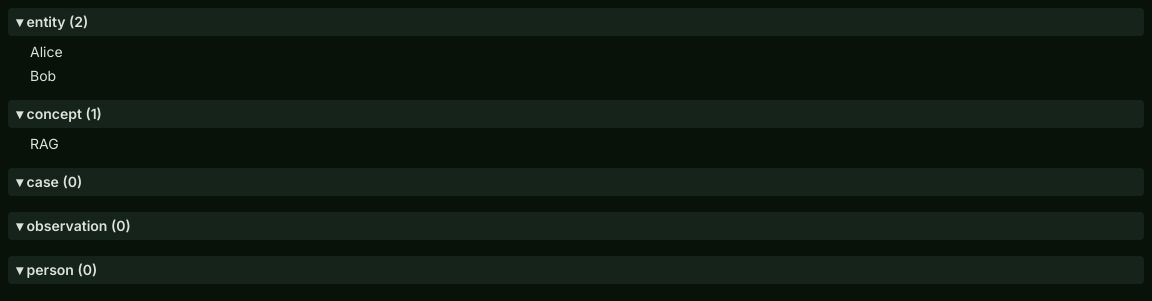
Scenario: WikiTree › toggles a kind group
The image size is (1152, 301).
What coordinates should you click on to do the following:
click the text "▾ entity (2)"
I would click on:
 (576, 22)
Its box is x1=8 y1=8 x2=1144 y2=36.
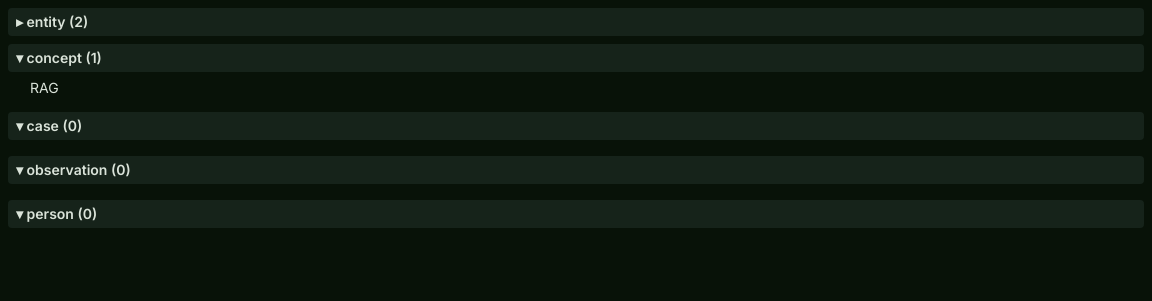
Check: the list item "Alice" is gone
What coordinates should you click on to do the following:
click the text "▸ entity (2)"
I would click on:
 (576, 22)
Its box is x1=8 y1=8 x2=1144 y2=36.
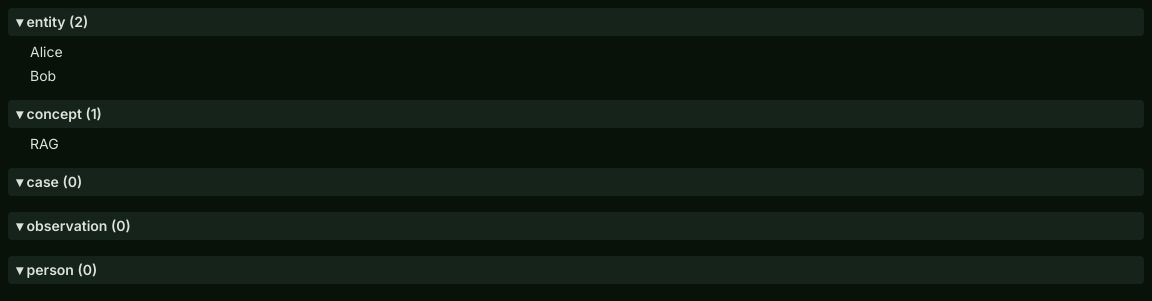
Check: the list item "Alice" is shown, box x1=30 y1=43 x2=63 y2=60
